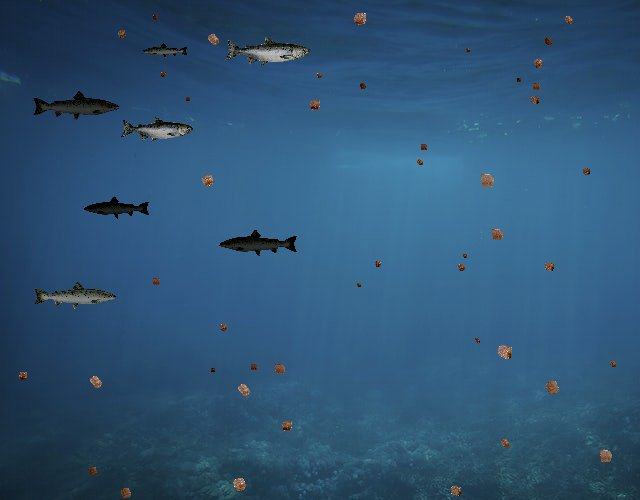Fish: (32, 89, 122, 122), (32, 280, 118, 311), (224, 36, 310, 67), (219, 228, 300, 257), (121, 117, 194, 143), (83, 196, 151, 220), (143, 42, 190, 59)
Pellet: (473, 167, 501, 195), (485, 222, 509, 246), (201, 28, 225, 52), (495, 433, 515, 453), (528, 53, 548, 73), (313, 70, 326, 83), (460, 250, 470, 260)
